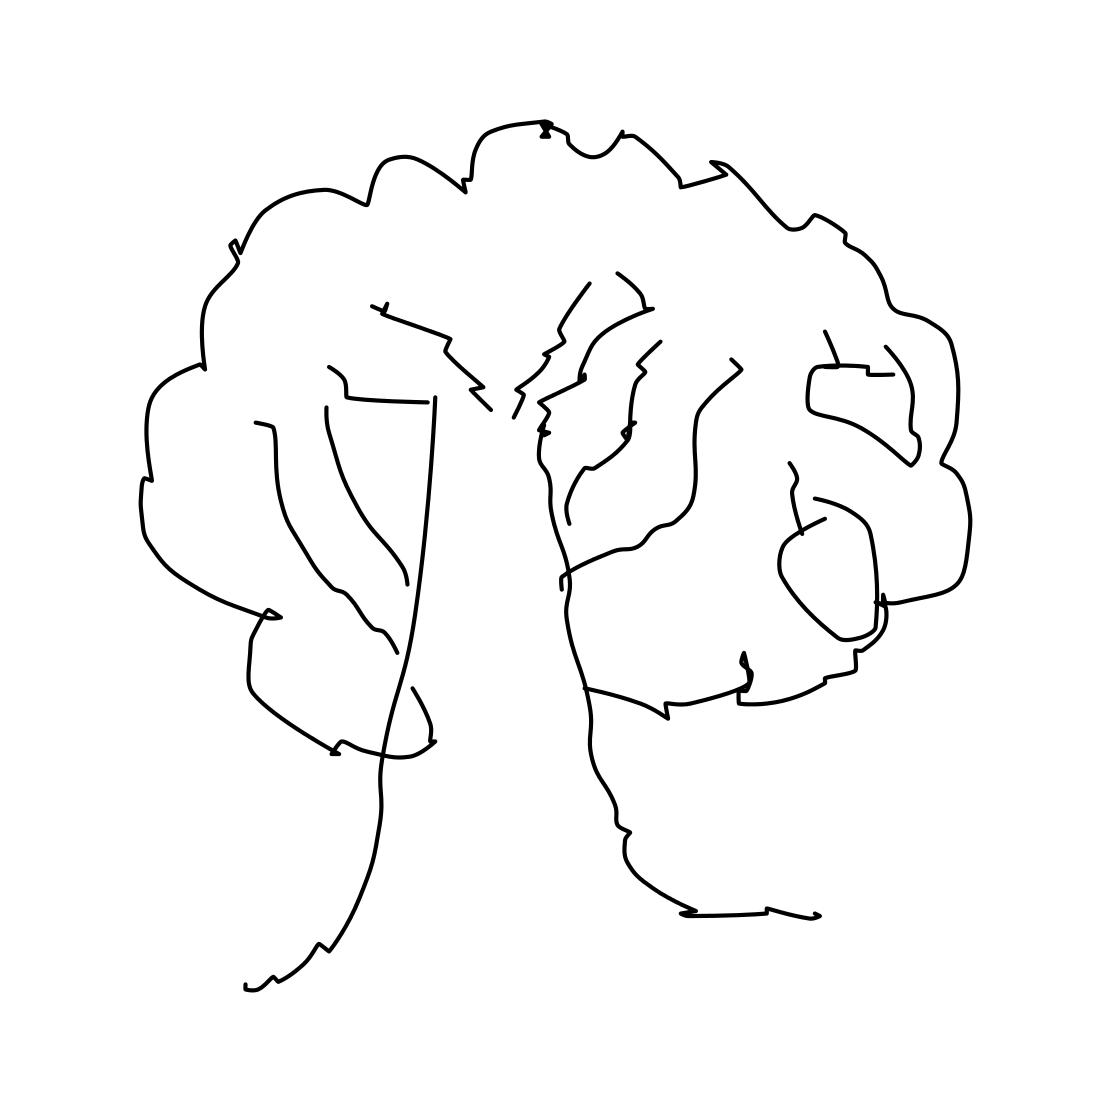Tree: (125, 109, 982, 985)
